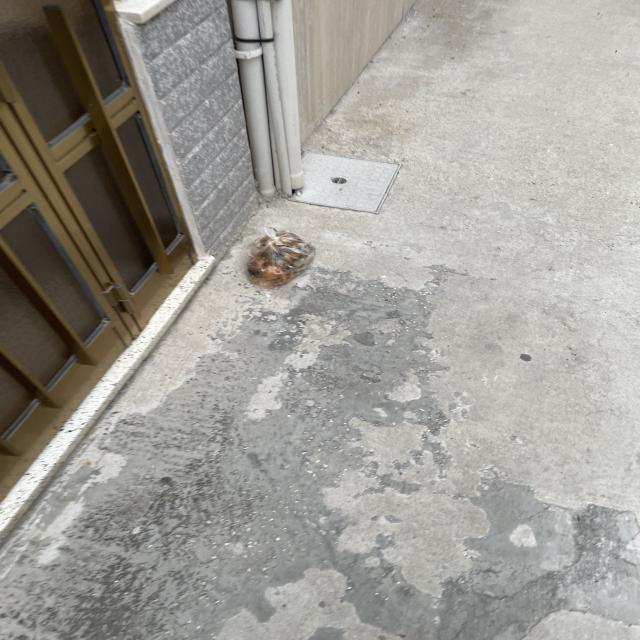white_bag: (238, 223, 323, 294)
